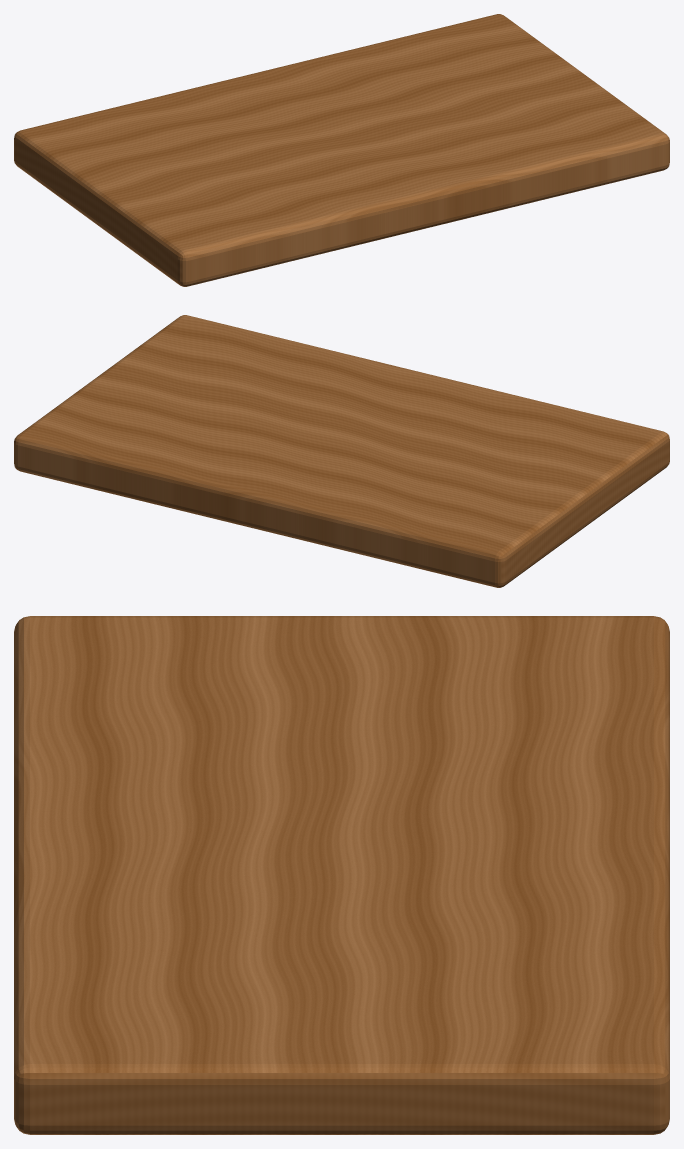
Rendered from wooden_cutting_board.glb.
The picture shows the model from 3 angles, top to bottom: view 1: azimuth 30°, elevation 25°; view 2: azimuth 150°, elevation 25°; view 3: azimuth 270°, elevation 25°; orthographic projection. The views are drawn at different scales.
Parts seen in each view (by area): view 1: Solid edge-grain cutting board; view 2: Solid edge-grain cutting board; view 3: Solid edge-grain cutting board.
Boxes of the visible parts, left/top/right/bottom form: Solid edge-grain cutting board: left=14, top=14, right=669, bottom=286; Solid edge-grain cutting board: left=14, top=315, right=669, bottom=587; Solid edge-grain cutting board: left=14, top=616, right=669, bottom=1134.
Bounding box in the file's own units: 0.34 × 0.024 × 0.205.
Materials: 2 (2 with a texture image).
